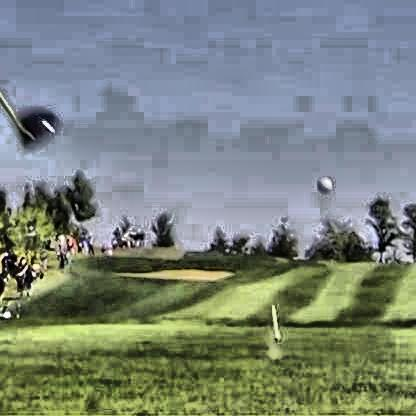golfball: (315, 174, 331, 192)
